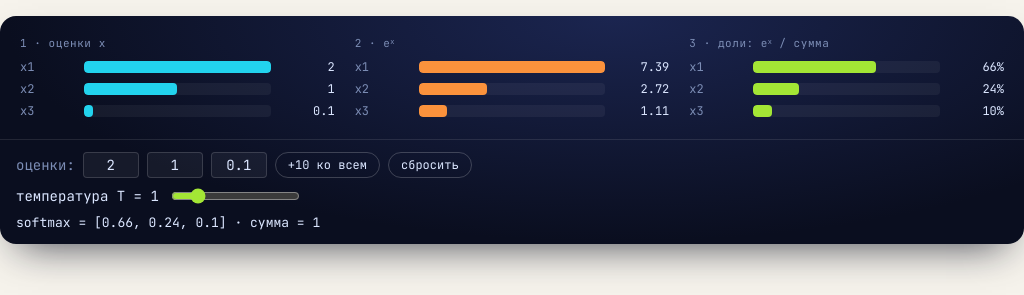
Scenario: SoftmaxBars › sharpens with a lower temperature and survives huge scores without NaN
Step 1. Set the slider labelled "температура" to "0.5" → coordinates (186, 196), box x1=171 y1=188 x2=300 y2=204
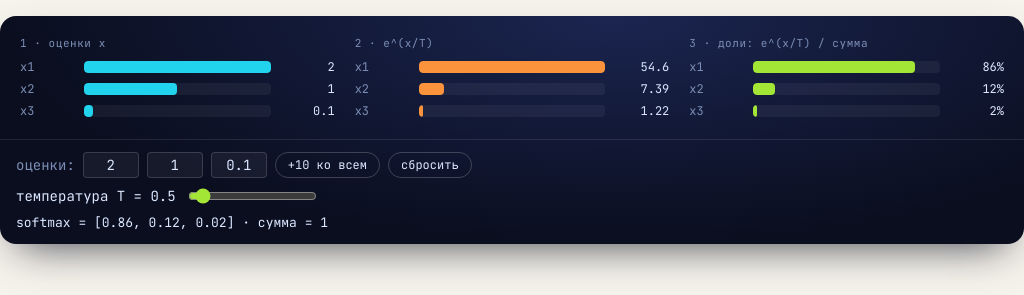
expect the text "softmax = [0.86, 0.12, 0.02] · сумма = 1" is shown: met, box x1=16 y1=214 x2=328 y2=231
Step 2. Replace the text in the field named "оценка x1" with "1000" → coordinates (111, 165), box x1=83 y1=152 x2=139 y2=178
Then press Enter
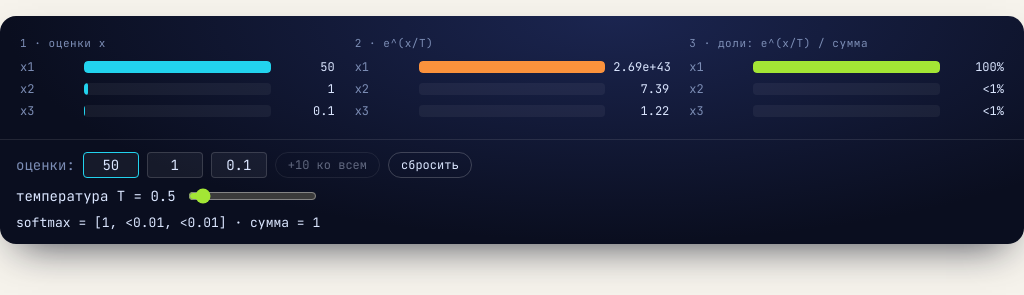
expect the text "softmax = [1, <0.01, <0.01] · сумма = 1" does not show "NaN": met, box x1=16 y1=214 x2=320 y2=231
expect the field named "оценка x1" holds "50": met, box x1=83 y1=152 x2=139 y2=178
expect the text "softmax = [1, <0.01, <0.01] · сумма = 1" is shown: met, box x1=16 y1=214 x2=320 y2=231
